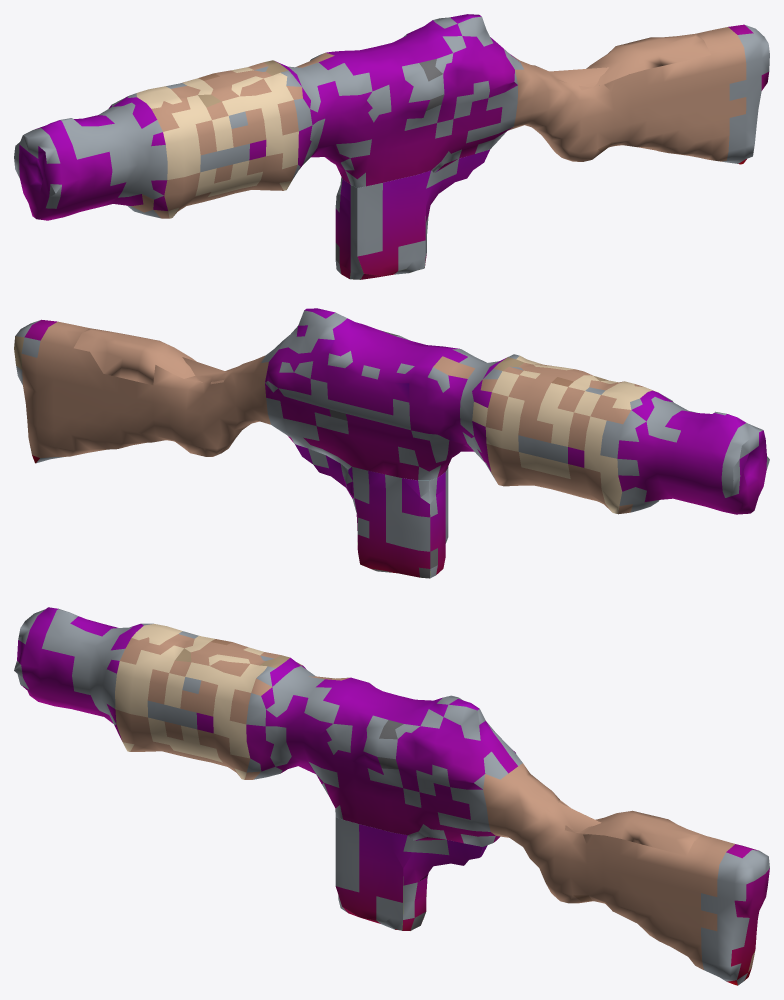
The model's file is wpn_percuteur.glb.
The picture shows the model from 3 angles, top to bottom: view 1: azimuth 30°, elevation 25°; view 2: azimuth 150°, elevation 25°; view 3: azimuth 330°, elevation 25°; orthographic projection.
Parts seen in each view (by area): view 1: wpn_percuteur, chargeur, chien; view 2: wpn_percuteur, chargeur, chien; view 3: wpn_percuteur, chargeur, chien.
Boxes of the visible parts, x1,y1,x2,y2 form: wpn_percuteur: (14, 14, 769, 220); chargeur: (335, 149, 489, 279); chien: (556, 33, 710, 91); wpn_percuteur: (14, 308, 769, 514); chargeur: (295, 444, 448, 578); chien: (74, 328, 236, 385); wpn_percuteur: (14, 607, 769, 985); chargeur: (335, 817, 487, 930); chien: (544, 800, 703, 855).
Bounding box in the file's own units: 0.9903 × 0.3134 × 0.1244.
